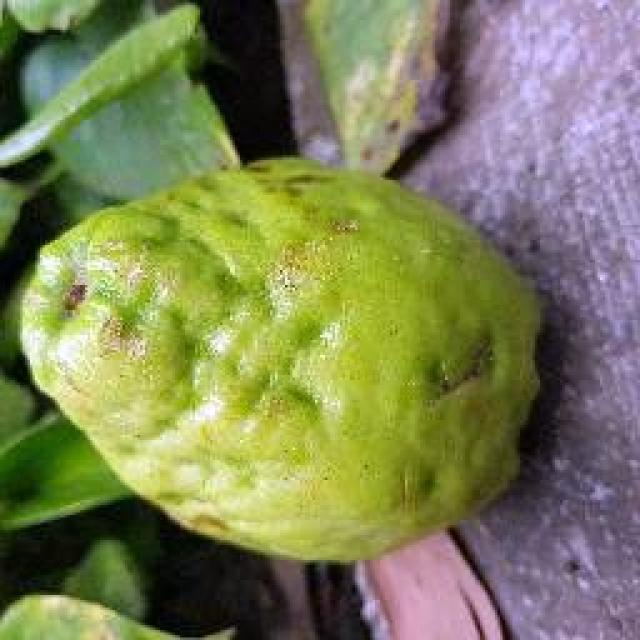Good_Guava: (18, 158, 542, 565)
